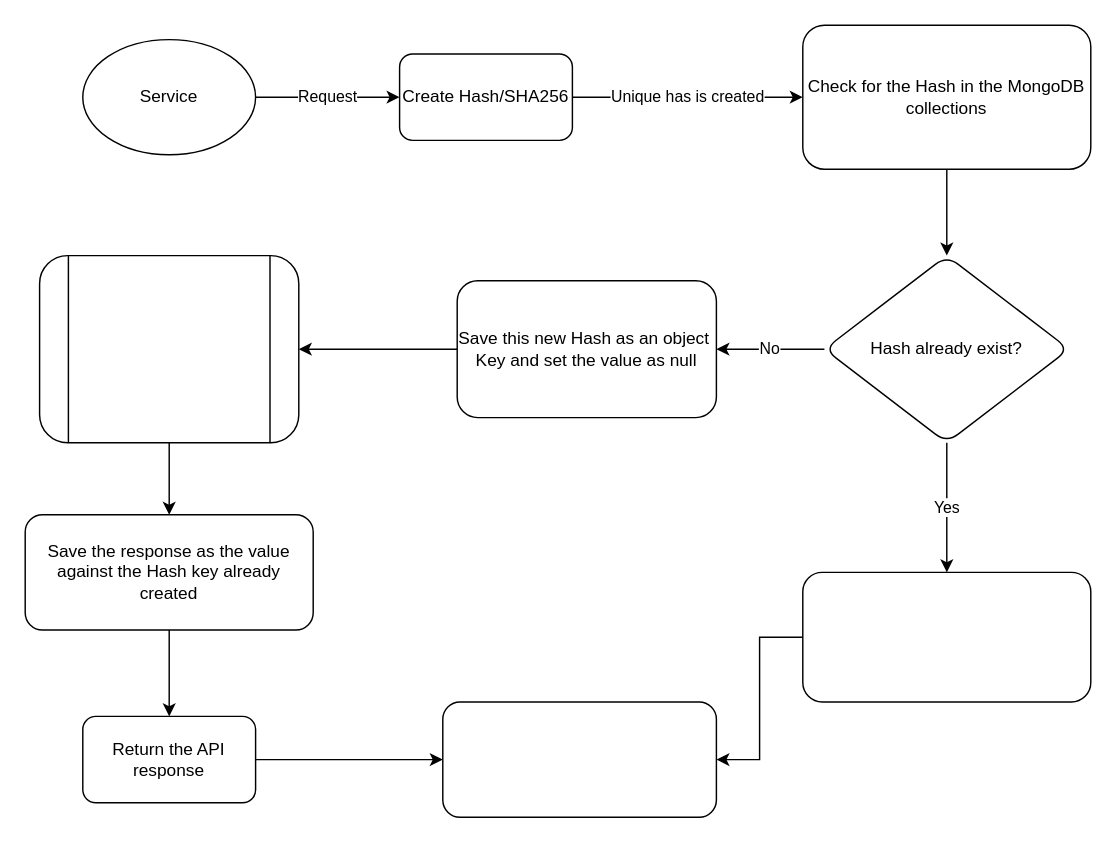
Some shapes in this 1116 by 842 pixel diagram are drawn without their labels. The centre of each missing label's shape, as x and y in pixels:
"Process the API call and get the response" goes at (168,348).
"Response to the Client" goes at (578,759).
"Retrieve the value from the Key" goes at (946,636).
